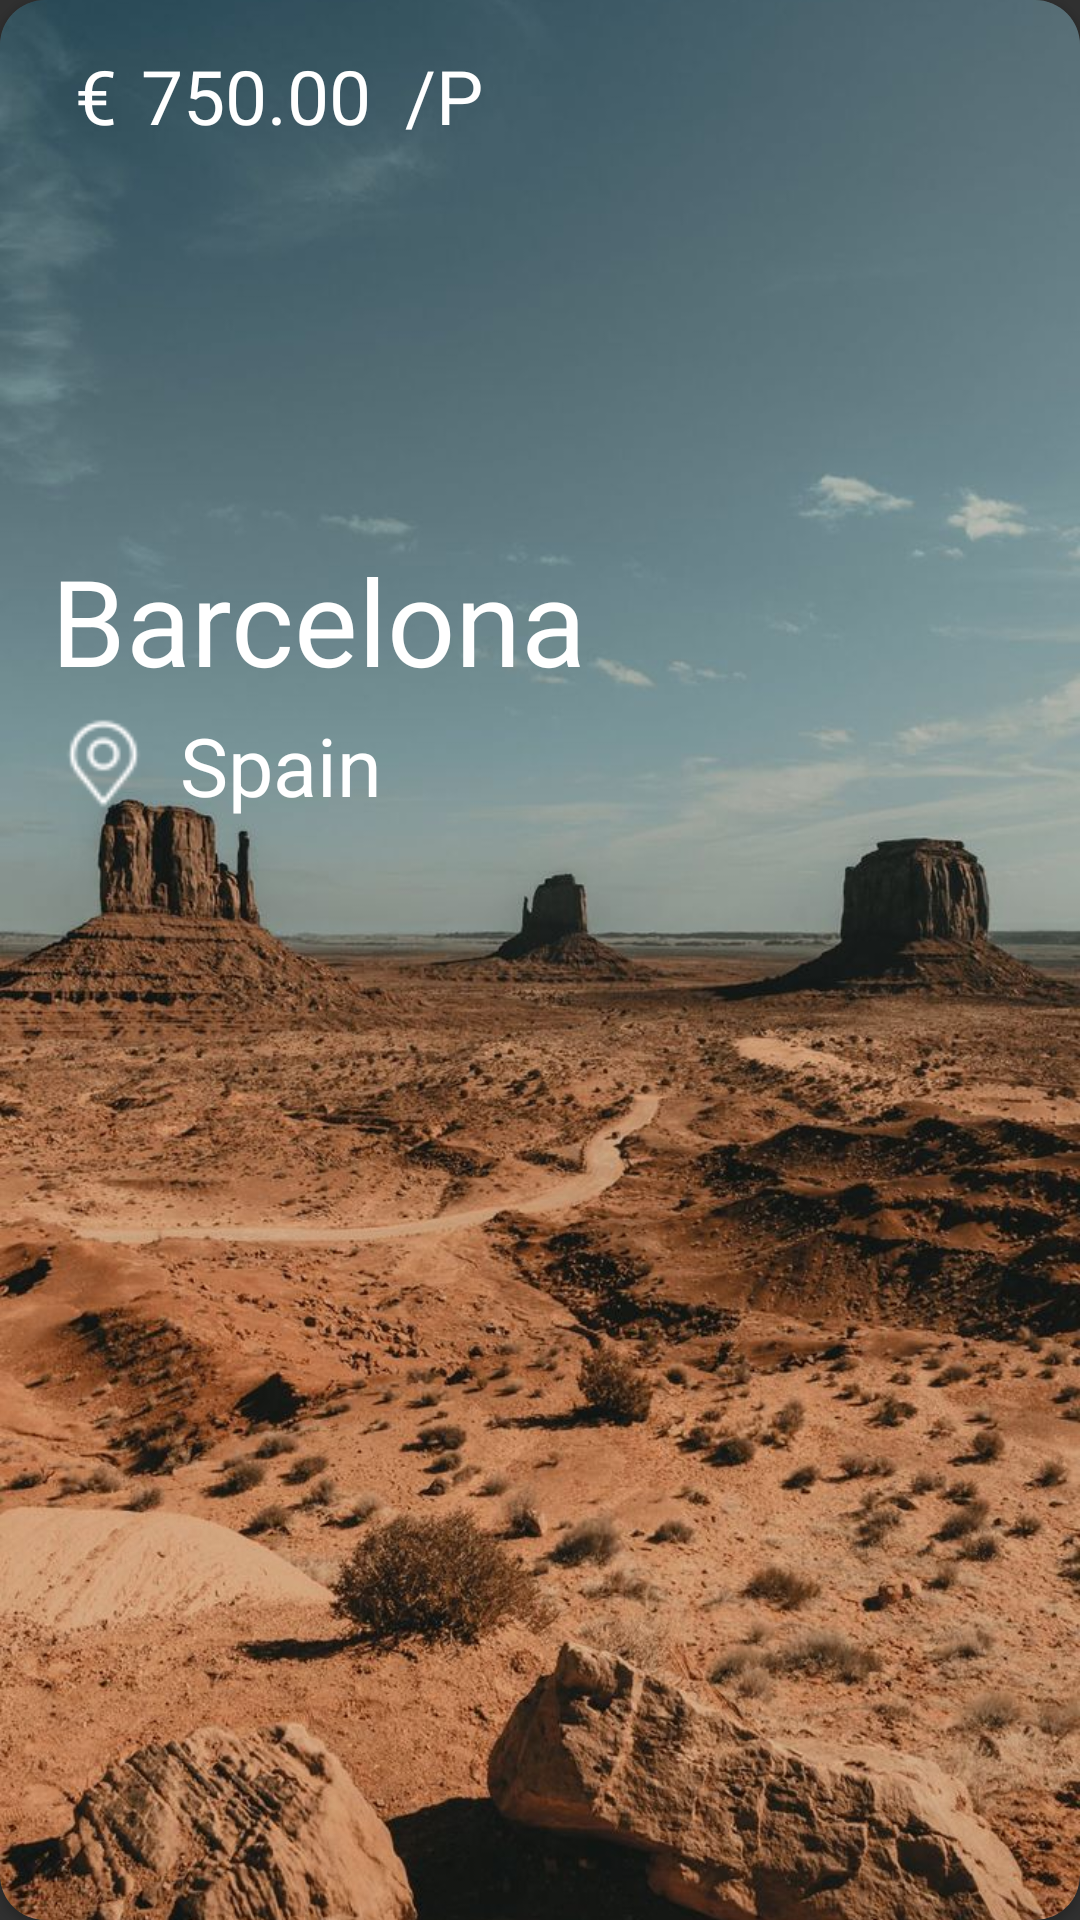

Screen size 1080x1920. Icon name, then its box in pixels as {"left": x1, "top": y1, "right": x2, "bottom": y2}:
maps: {"left": 69, "top": 720, "right": 138, "bottom": 806}
